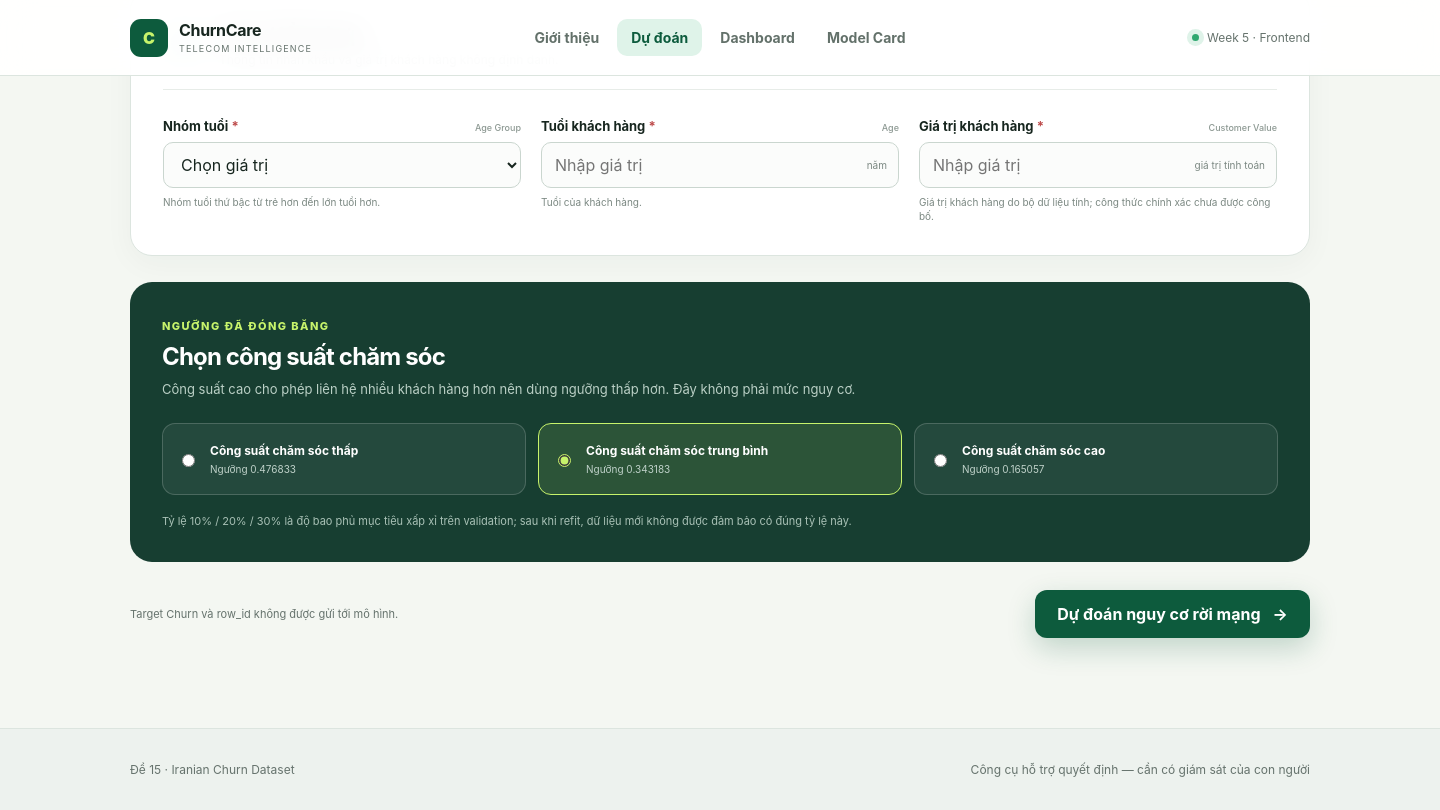
Scenario: PredictPage › does not submit missing data and renders inline validation errors
(page scrolled)
Click the button "Dự đoán nguy cơ rời mạng →" at (1172,614), box [1035,590,1310,638]
(page scrolled)
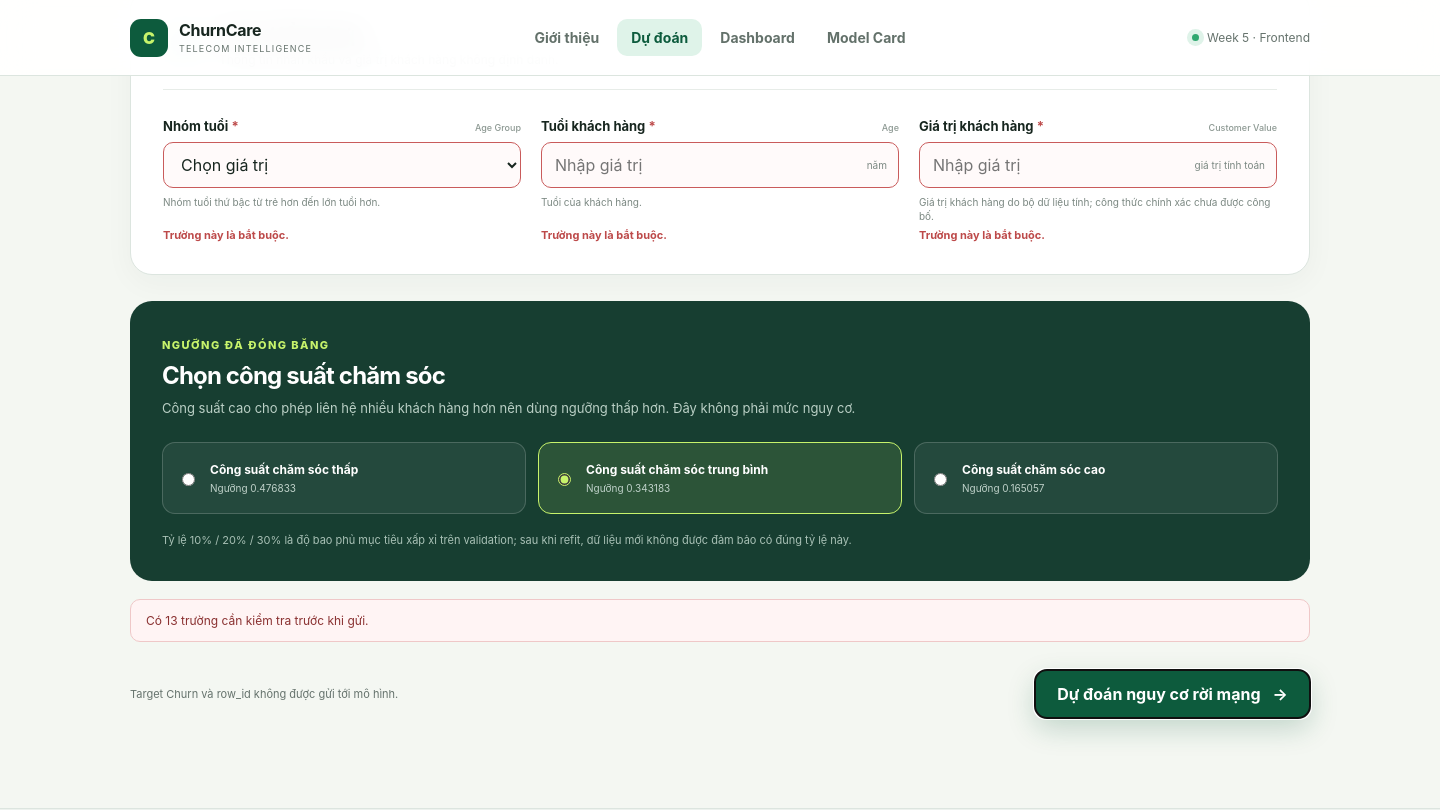
Expected: the text "Có 13 trường cần kiểm tra trước khi gửi." is shown, [130,599,1310,642]
